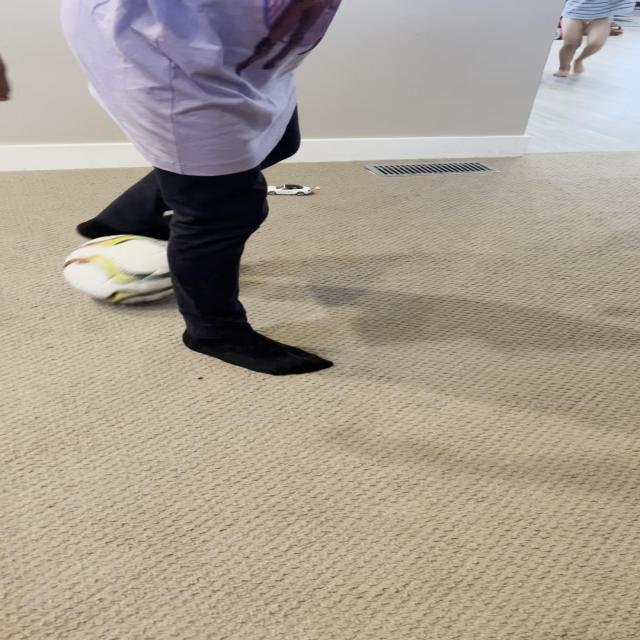Soccer Ball: (64, 233, 188, 304)
